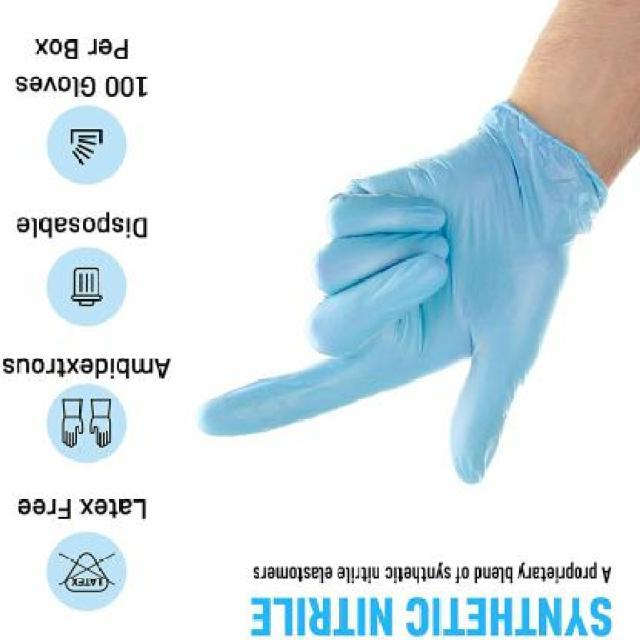gloved_hand: (192, 67, 618, 504)
